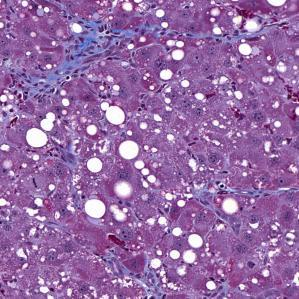fibrosis: (54, 25, 157, 71)
